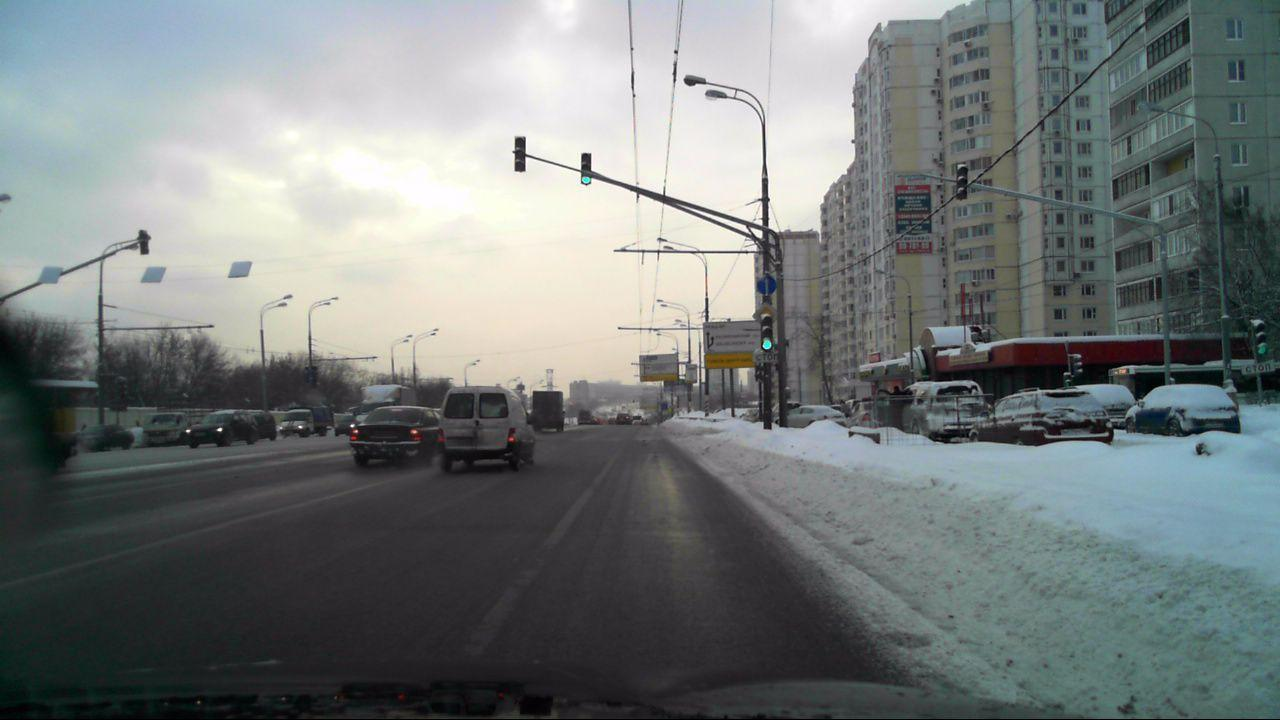off traffic light: (957, 163, 969, 201), (514, 135, 526, 171)
road_sign: (757, 277, 777, 296), (754, 352, 780, 363)
traffic light: (761, 313, 774, 352), (580, 151, 592, 186)
